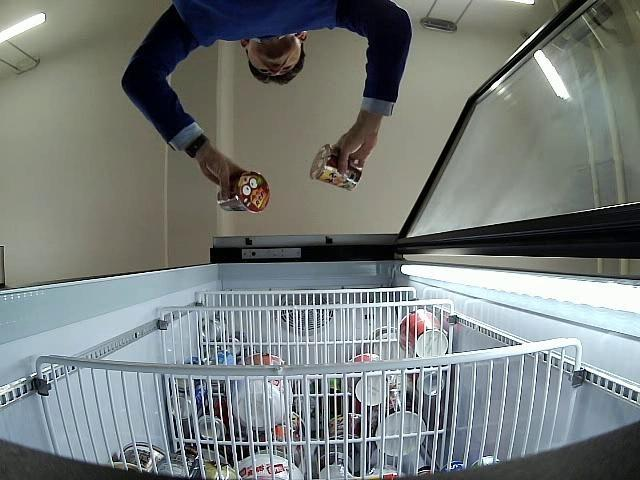06_nuguri_S: (310, 144, 364, 192), (217, 170, 270, 214)
